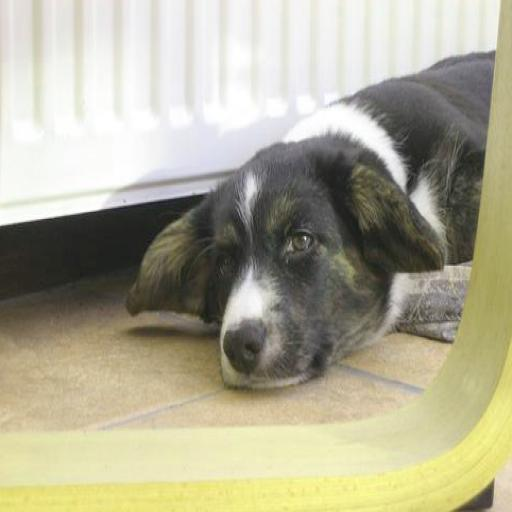dog_face: (124, 156, 442, 390)
